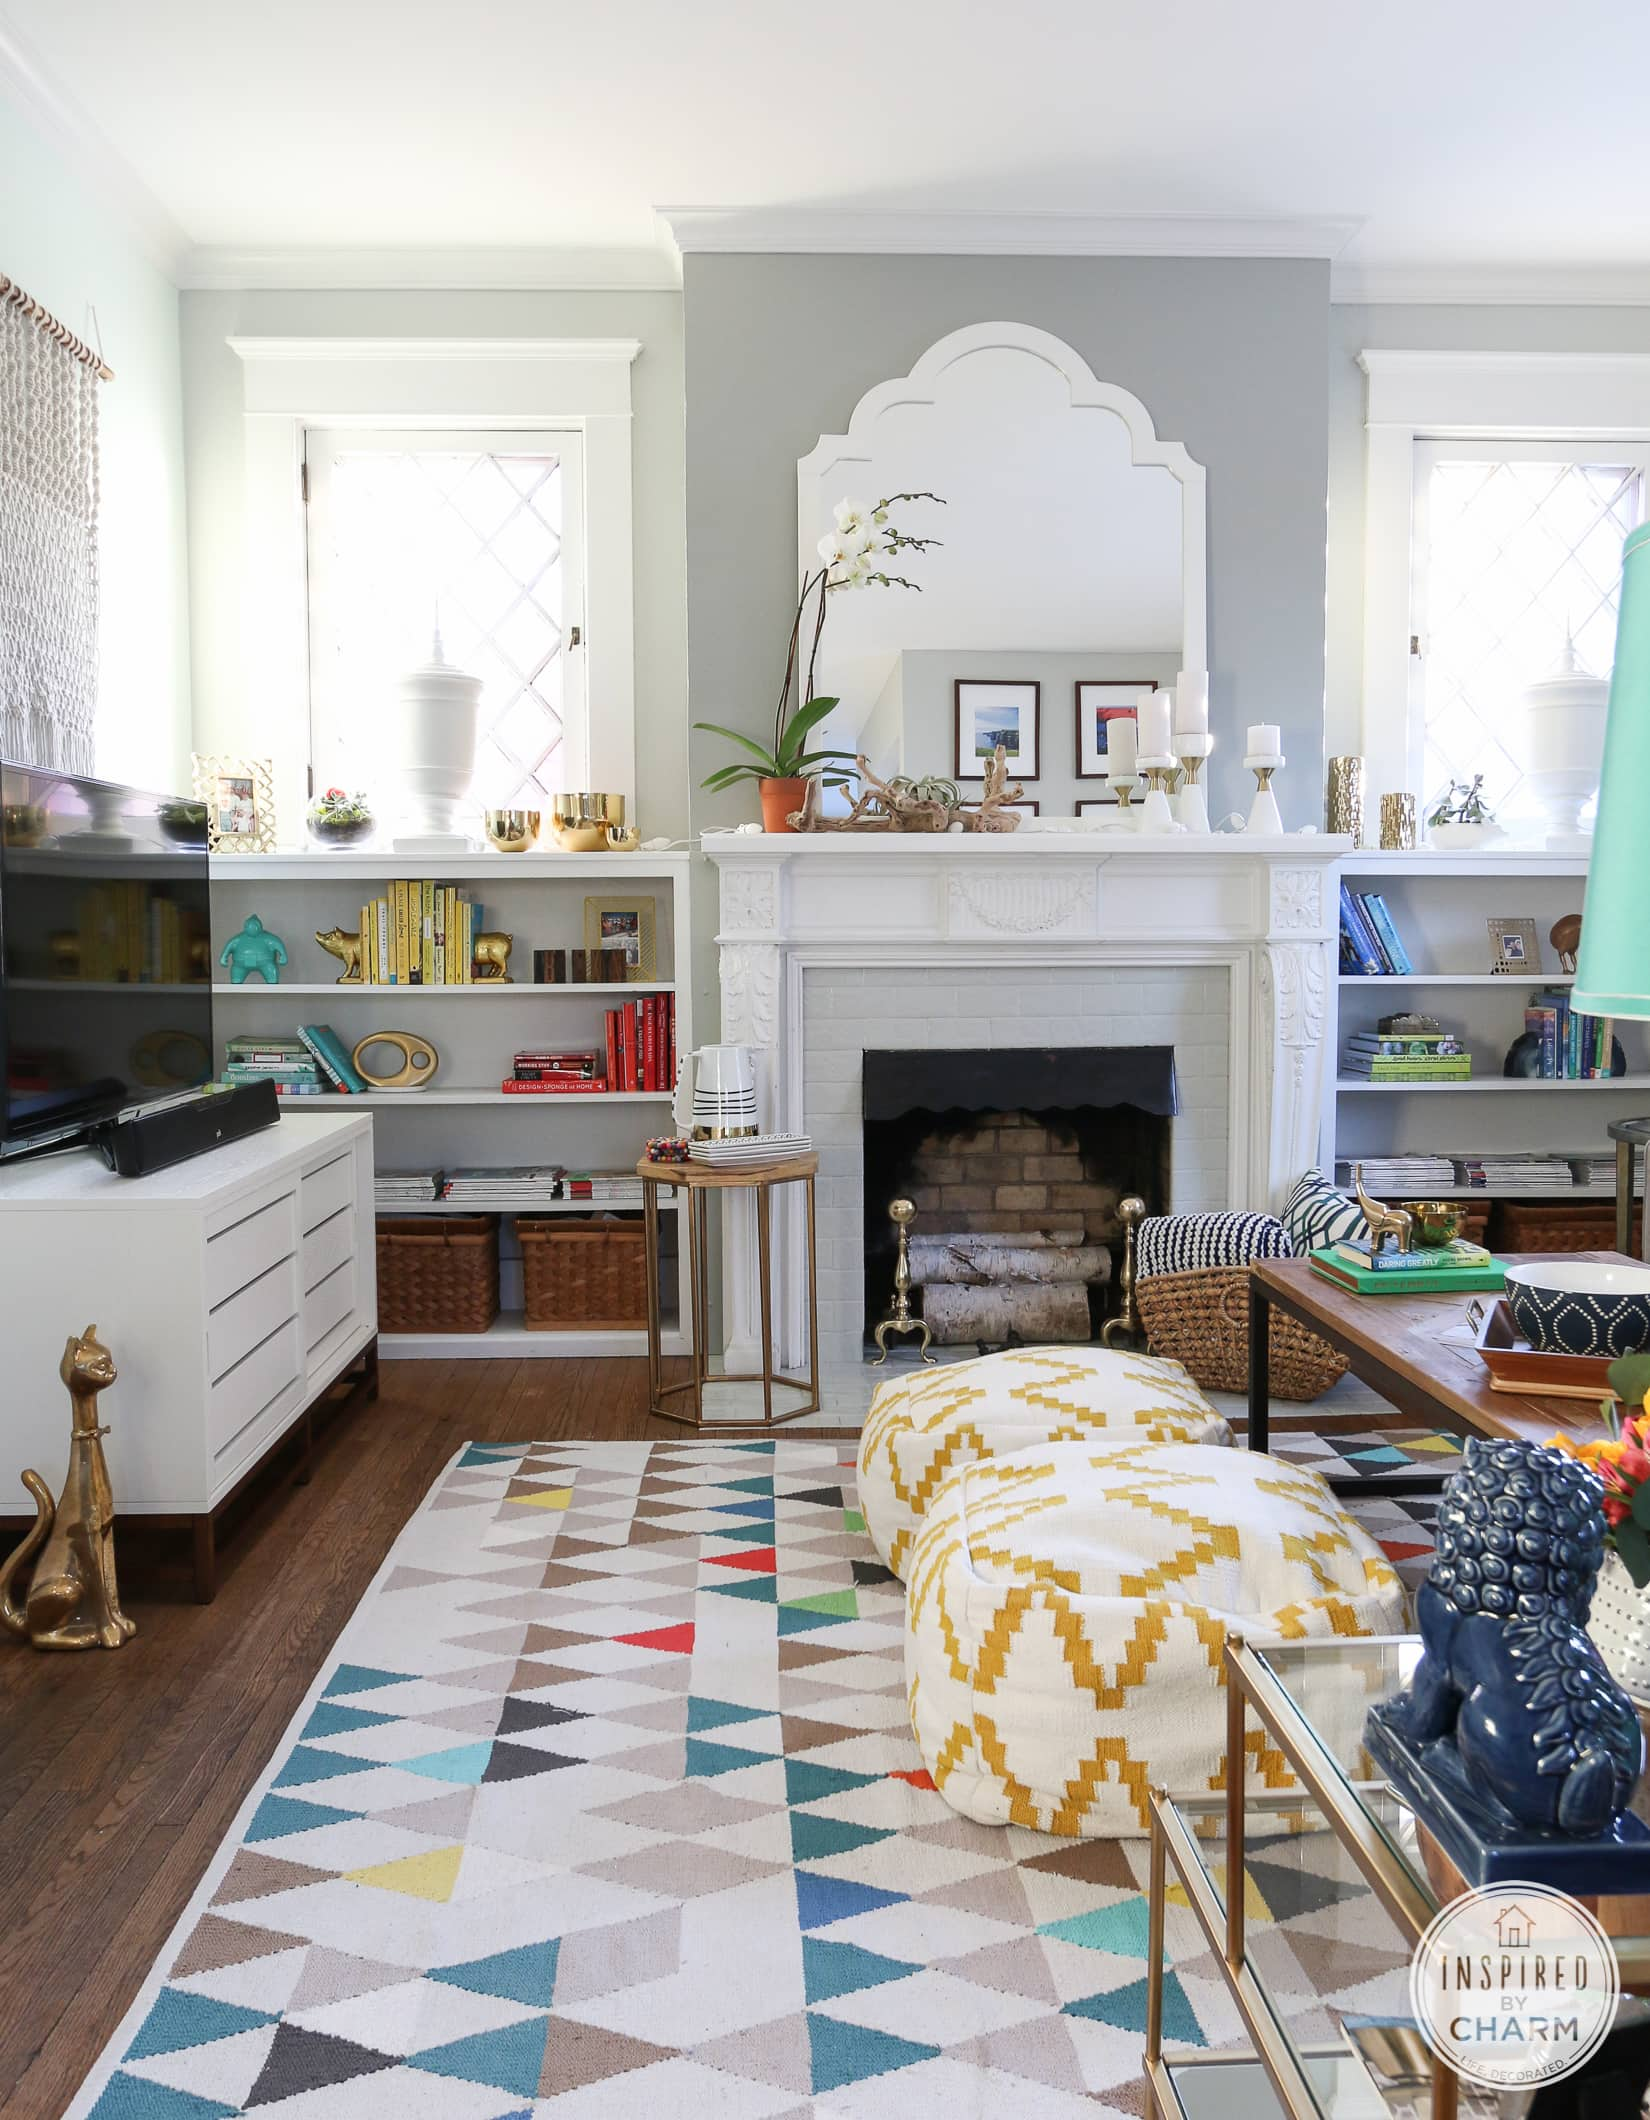biru: (1411, 1421, 1647, 1908)
hijau: (224, 915, 287, 977)
hitam: (2, 847, 212, 1098), (119, 1079, 282, 1148)
merah: (606, 998, 676, 1093)
putih: (394, 654, 483, 828), (1179, 666, 1215, 736), (1134, 692, 1172, 754), (1246, 724, 1287, 764)
